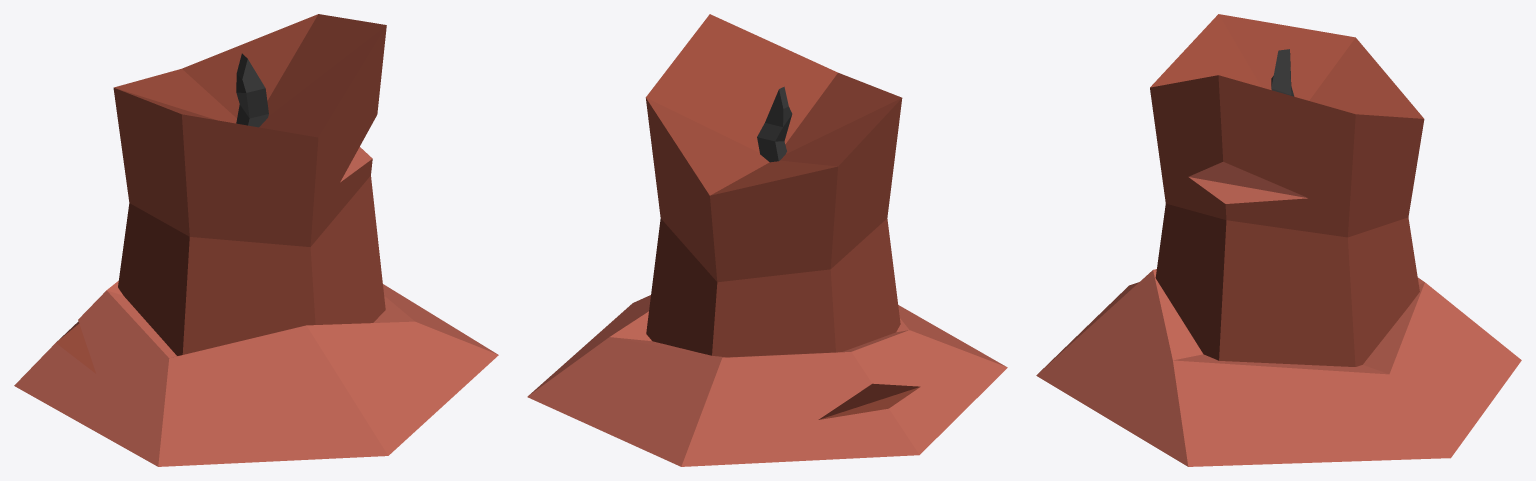
The model's file is Candle_2_Red.fbx.
The picture shows the model from 3 angles, left to right: view 1: azimuth 30°, elevation 25°; view 2: azimuth 150°, elevation 25°; view 3: azimuth 270°, elevation 25°; orthographic projection. The views are drawn at different scales.
Parts seen in each view (by area): view 1: Candle_2_Red_Part_1, Candle_2_Red_Part_2, Candle_2_Red_Part_3; view 2: Candle_2_Red_Part_1, Candle_2_Red_Part_2, Candle_2_Red_Part_3; view 3: Candle_2_Red_Part_1, Candle_2_Red_Part_2, Candle_2_Red_Part_3.
Boxes of the visible parts, x1,y1,x2,y2 form: Candle_2_Red_Part_1: (56, 14, 386, 373); Candle_2_Red_Part_2: (14, 147, 498, 466); Candle_2_Red_Part_3: (236, 53, 268, 127); Candle_2_Red_Part_1: (645, 14, 920, 419); Candle_2_Red_Part_2: (527, 295, 1007, 466); Candle_2_Red_Part_3: (757, 86, 792, 162); Candle_2_Red_Part_1: (1150, 14, 1424, 366); Candle_2_Red_Part_2: (1036, 161, 1521, 466); Candle_2_Red_Part_3: (1271, 49, 1294, 96).
Size of the model in its own units: 34.86 by 28.88 by 36.94.
